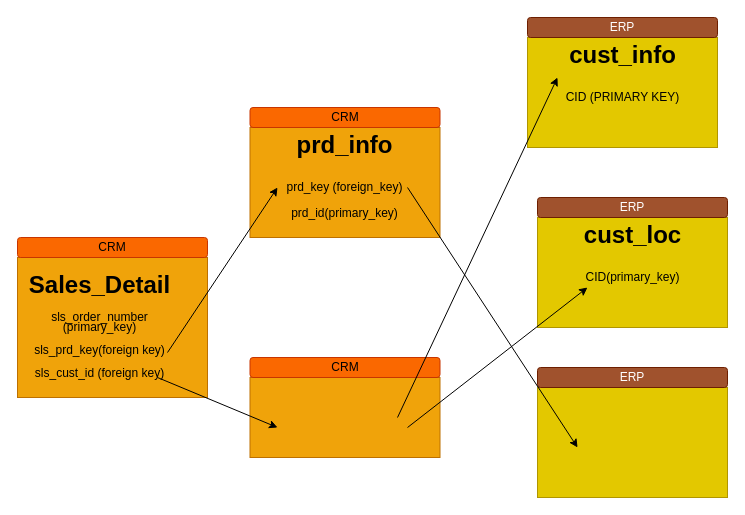
This 745x515 diagram has some shape labels left out. The shapes that lost their labels are listed below. From the top down, each one's centre as x and y in pixels, then its label:
(344,417): cust_info cst_key (primary_key)
(632,442): prd_info ID(primary_key)
